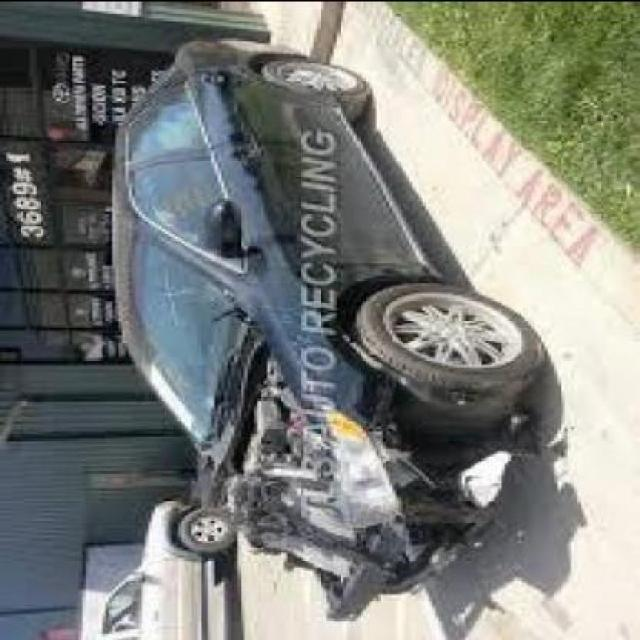damage: (199, 295, 548, 620)
